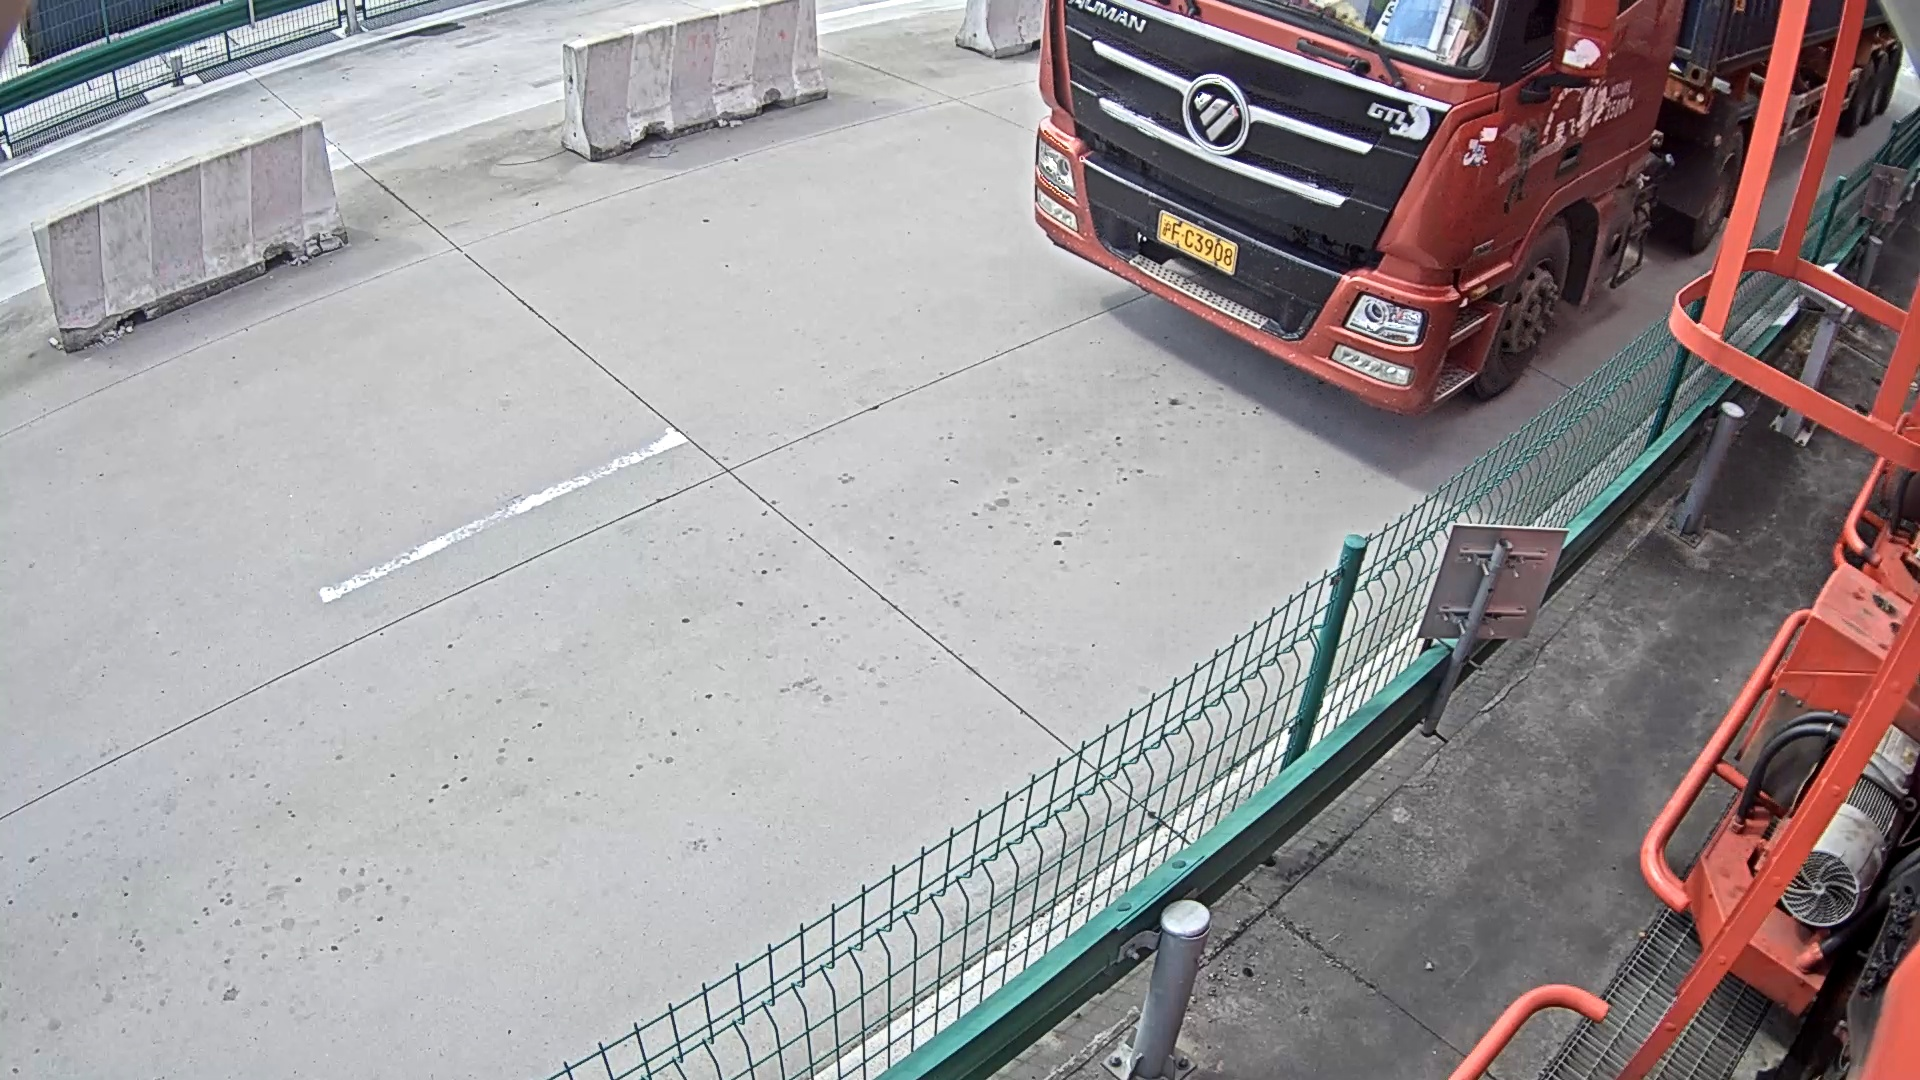head: (1040, 1, 1696, 412)
plate: (1158, 208, 1235, 275)
